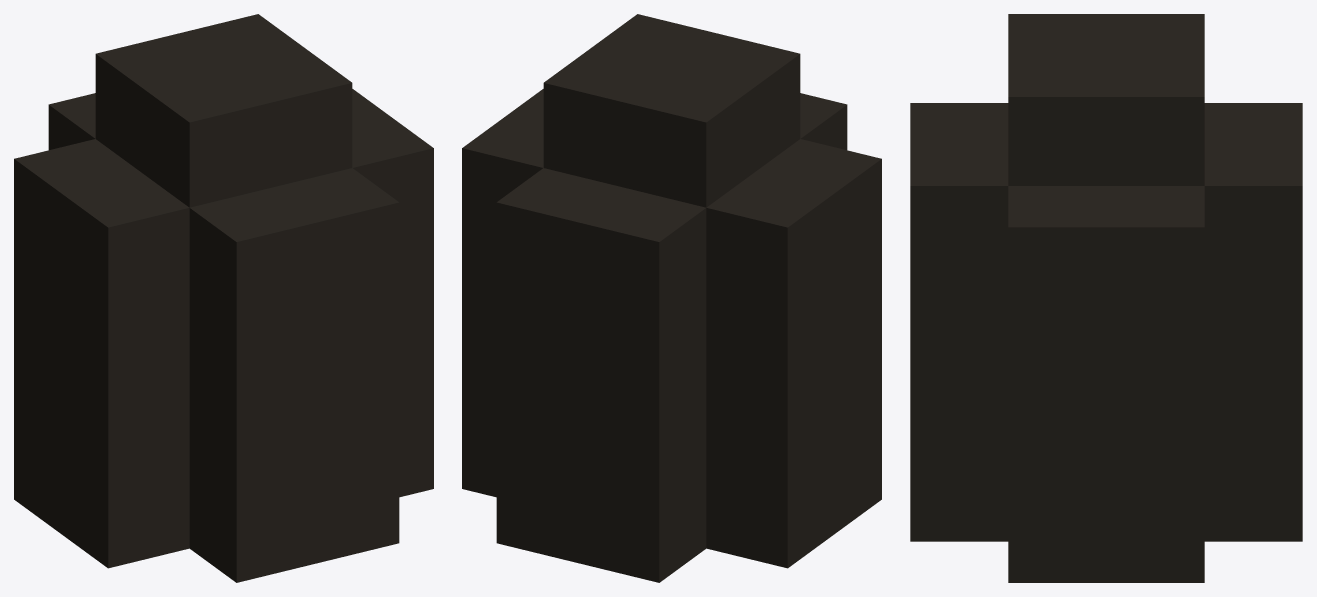
The model's file is torch_off_head.gltf.
The picture shows the model from 3 angles, left to right: view 1: azimuth 30°, elevation 25°; view 2: azimuth 150°, elevation 25°; view 3: azimuth 270°, elevation 25°; orthographic projection. The views are drawn at different scales.
Parts seen in each view (by area): view 1: torch_off_head; view 2: torch_off_head; view 3: torch_off_head.
Part boxes in pixels (left/top/right/bottom): torch_off_head: left=14, top=14, right=433, bottom=582; torch_off_head: left=462, top=14, right=881, bottom=582; torch_off_head: left=910, top=14, right=1302, bottom=582.
Size of the model in its own units: 0.4 by 0.5 by 0.4.
Materials: 1 (1 with a texture image).
